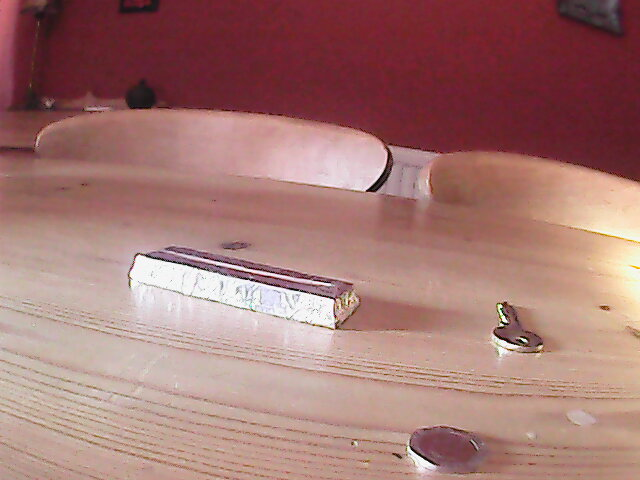Coin: (406, 423, 489, 475)
Foil: (126, 241, 361, 329)
Key: (488, 298, 548, 359)
